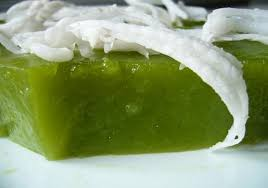kanompiakpoon: (1, 1, 268, 168)
